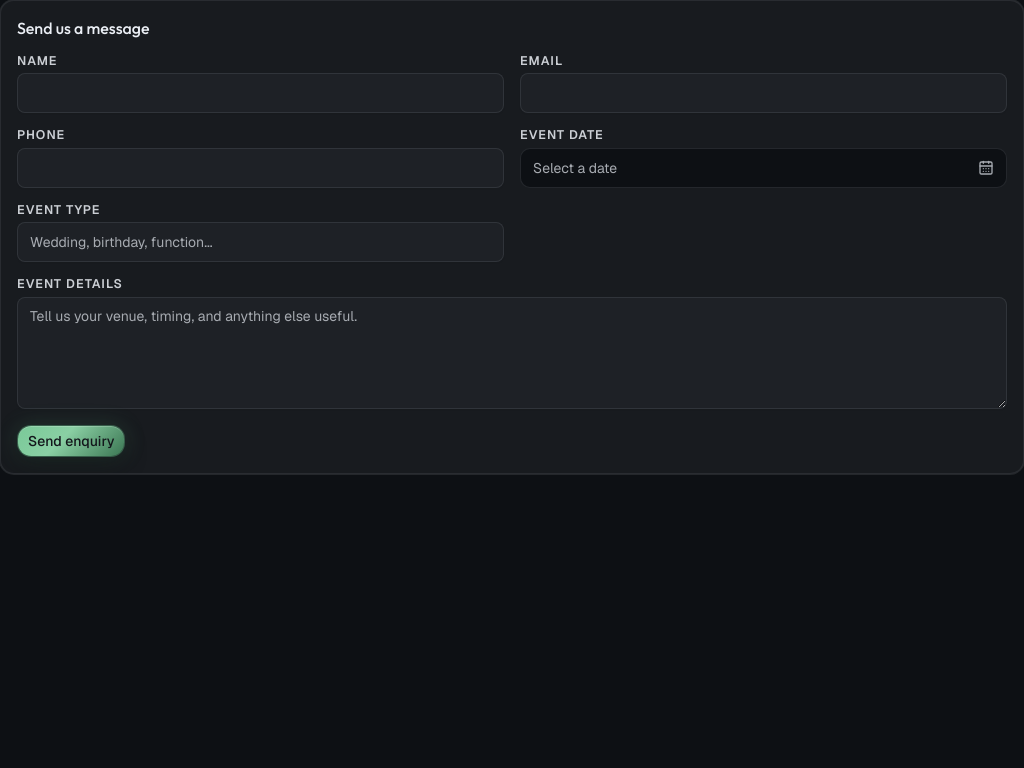
Scenario: EnquiryForm › shows a visible error when the network request fails
Type "Alex Smith" into the field labelled "Name".
click(260, 94); type("Alex Smith")  # box [17, 74, 504, 114]
Type "alex@example.com" into the field labelled "Email".
click(764, 94); type("alex@example.com")  # box [520, 74, 1007, 114]
Type "0412345678" into the field labelled "Phone".
click(260, 168); type("0412345678")  # box [17, 148, 504, 188]
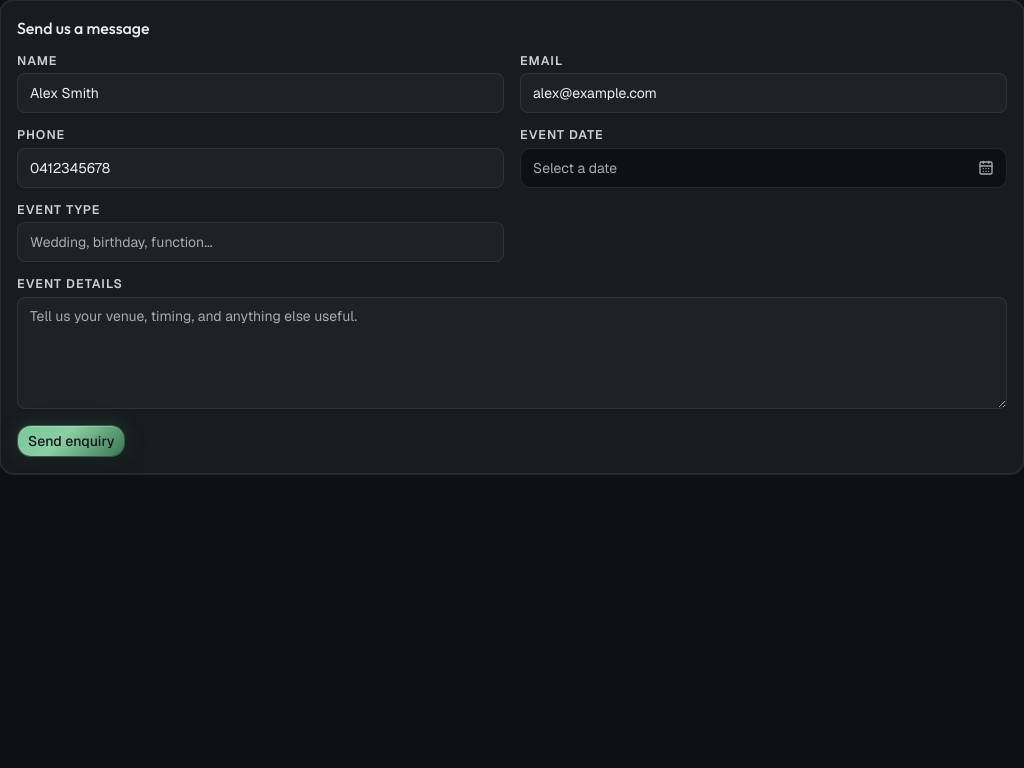
Type "Birthday party" into the field labelled "Event Type".
click(260, 242); type("Birthday party")  # box [17, 222, 504, 262]
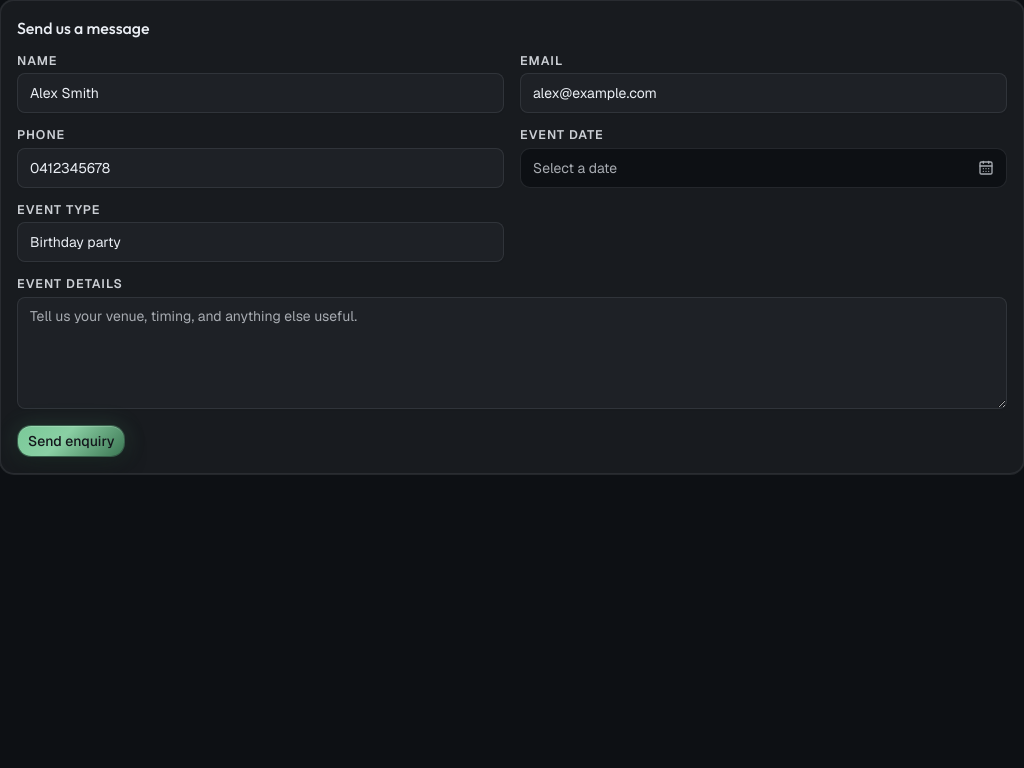
Type "A party with speakers and microphones." into the text box labelled "Event Details".
click(512, 353); type("A party with speakers and microphones.")  # box [17, 297, 1007, 409]
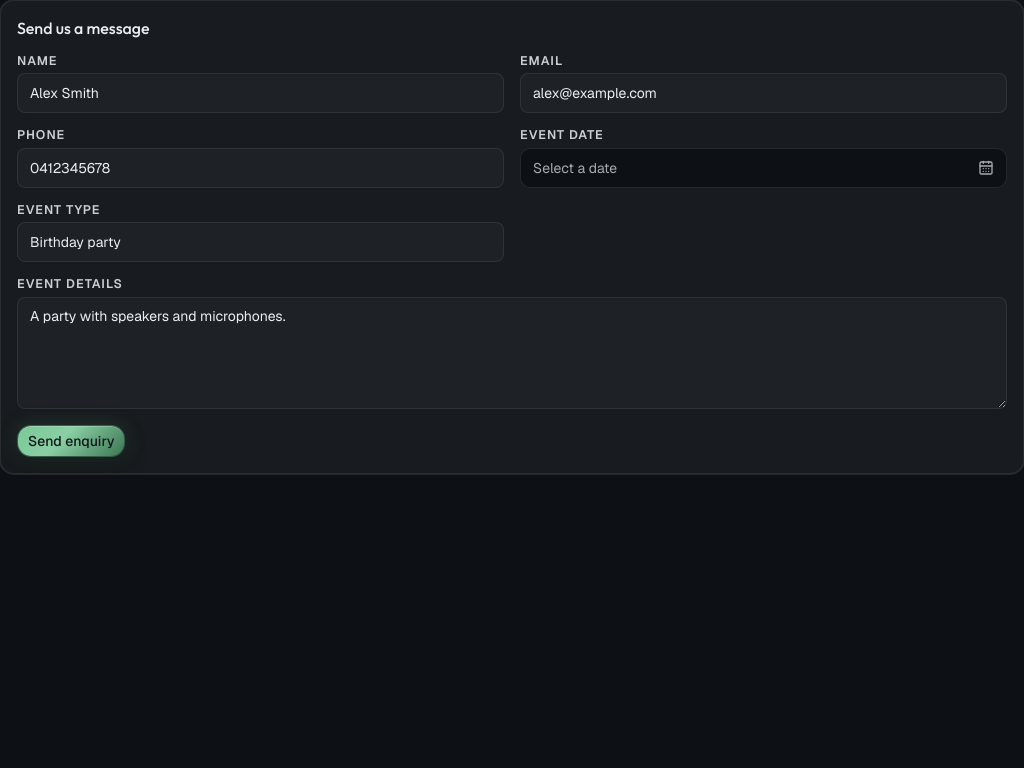
Click the button "Select a date".
click(575, 168)  # box [520, 148, 1007, 188]
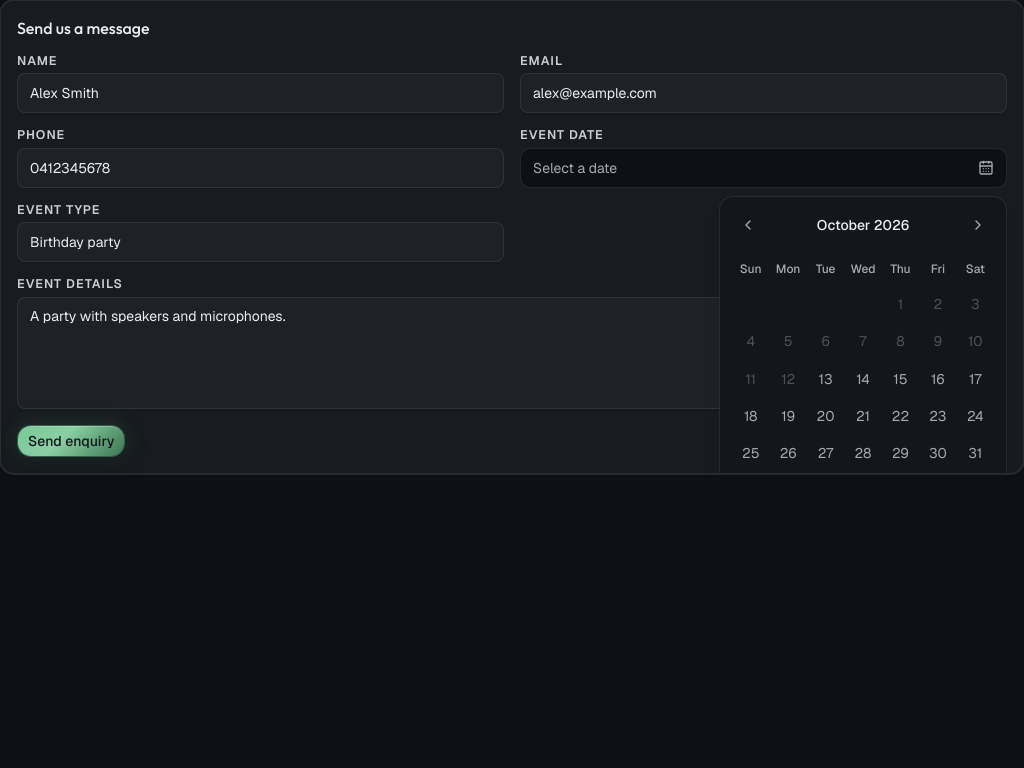
Click the button "13".
click(826, 378)  # box [809, 362, 842, 395]
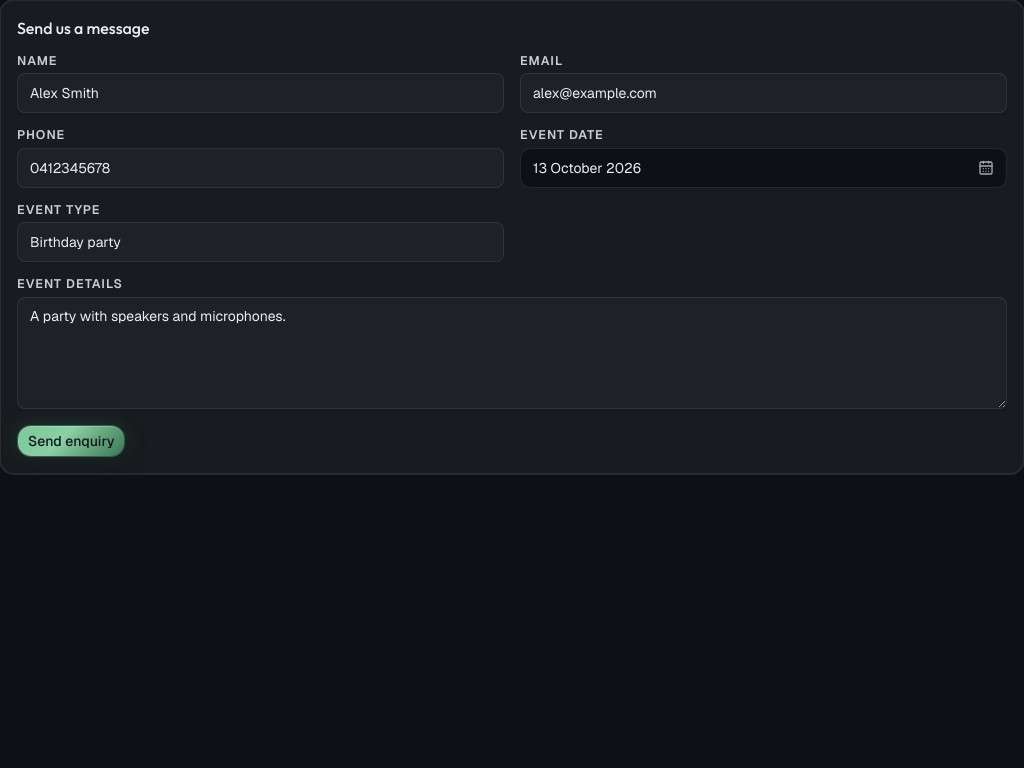
Click the button "Send enquiry".
click(71, 441)  # box [17, 425, 125, 457]
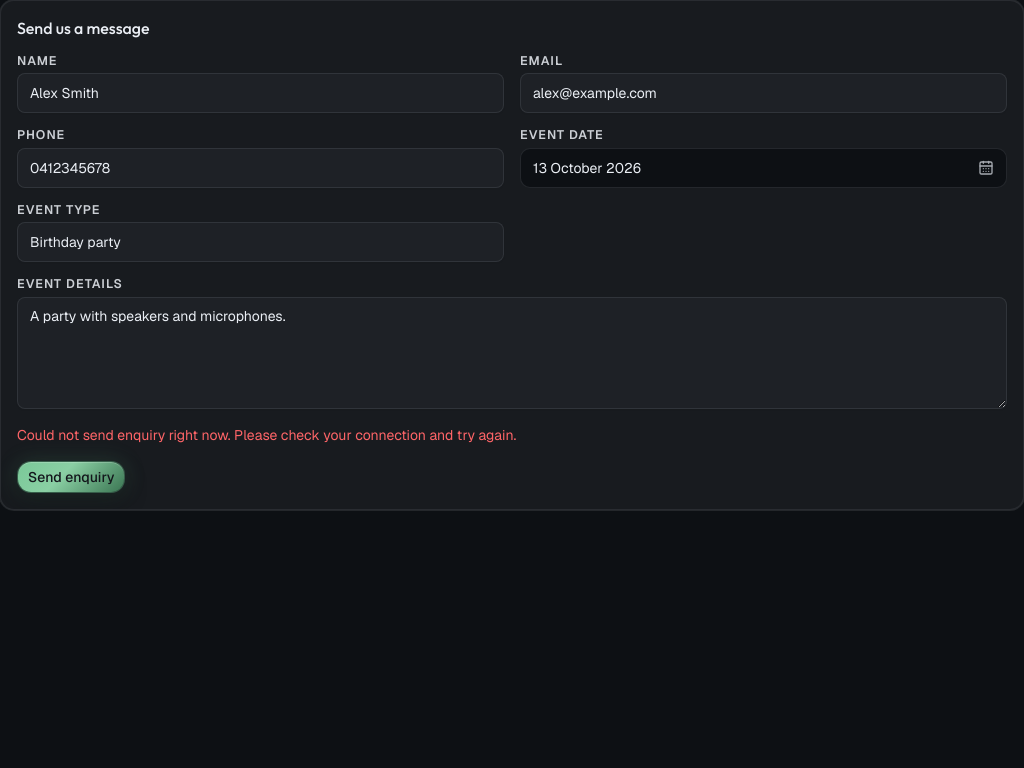
Check: the text "Could not send enquiry right now. Please check your connection and try again." is shown, box [17, 426, 516, 444]
